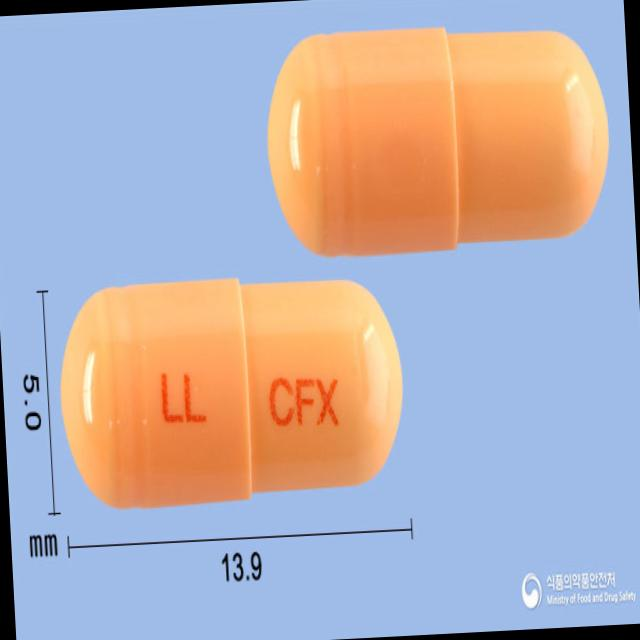Cefaxamin Cap: (51, 263, 413, 516)
